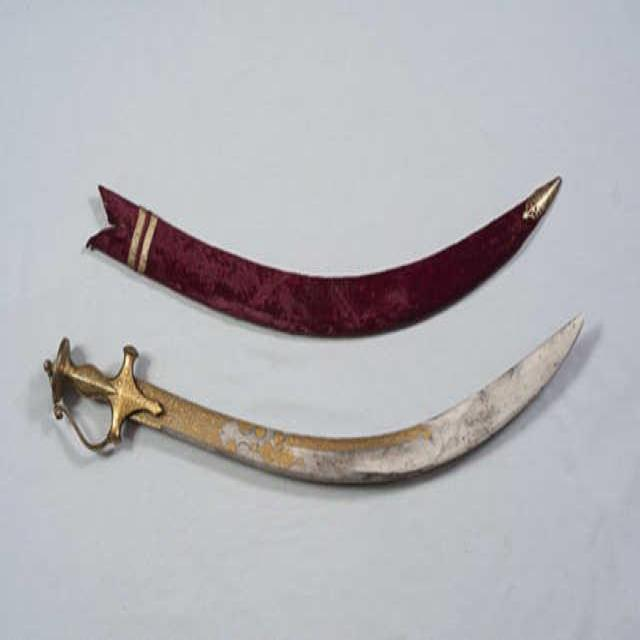weapon: (44, 309, 597, 487)
